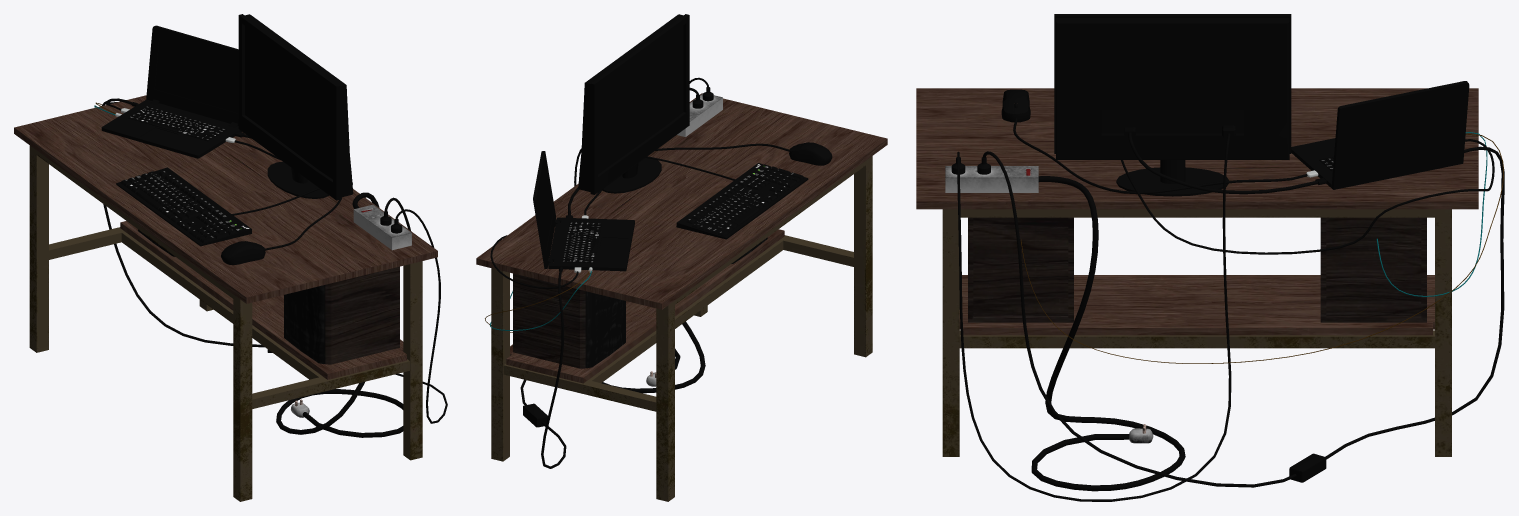
The model's file is desktop.glb.
3 views of the same model, side by side, from view 1: azimuth 30°, elevation 25°; view 2: azimuth 150°, elevation 25°; view 3: azimuth 270°, elevation 25° (orthographic). The views are drawn at different scales.
Parts seen in each view (by area): view 1: p_Cuerpo_Escritorio_0, p_Monitor_PlasticoBrillante_0, pCylinder8_Cableado_0, pCube410_Teclado_0; view 2: p_Cuerpo_Escritorio_0, p_Monitor_PlasticoBrillante_0, pCube410_Teclado_0, pCylinder8_Cableado_0; view 3: p_Cuerpo_Escritorio_0, p_Monitor_PlasticoBrillante_0, pCylinder8_Cableado_0, pCube410_Teclado_0.
Part boxes in pixels (bbox=[...]): p_Cuerpo_Escritorio_0: bbox=[14, 95, 437, 501]; p_Monitor_PlasticoBrillante_0: bbox=[101, 14, 353, 200]; pCylinder8_Cableado_0: bbox=[94, 98, 447, 437]; pCube410_Teclado_0: bbox=[116, 167, 265, 265]; p_Cuerpo_Escritorio_0: bbox=[476, 93, 887, 501]; p_Monitor_PlasticoBrillante_0: bbox=[533, 14, 689, 271]; pCube410_Teclado_0: bbox=[676, 142, 832, 239]; pCylinder8_Cableado_0: bbox=[485, 77, 789, 468]; p_Cuerpo_Escritorio_0: bbox=[916, 88, 1478, 456]; p_Monitor_PlasticoBrillante_0: bbox=[1054, 14, 1469, 196]; pCylinder8_Cableado_0: bbox=[945, 118, 1504, 501]; pCube410_Teclado_0: bbox=[1001, 89, 1030, 122].
Bounding box in the file's own units: 87.44 × 111 × 139.
4 materials, 4 textured.
